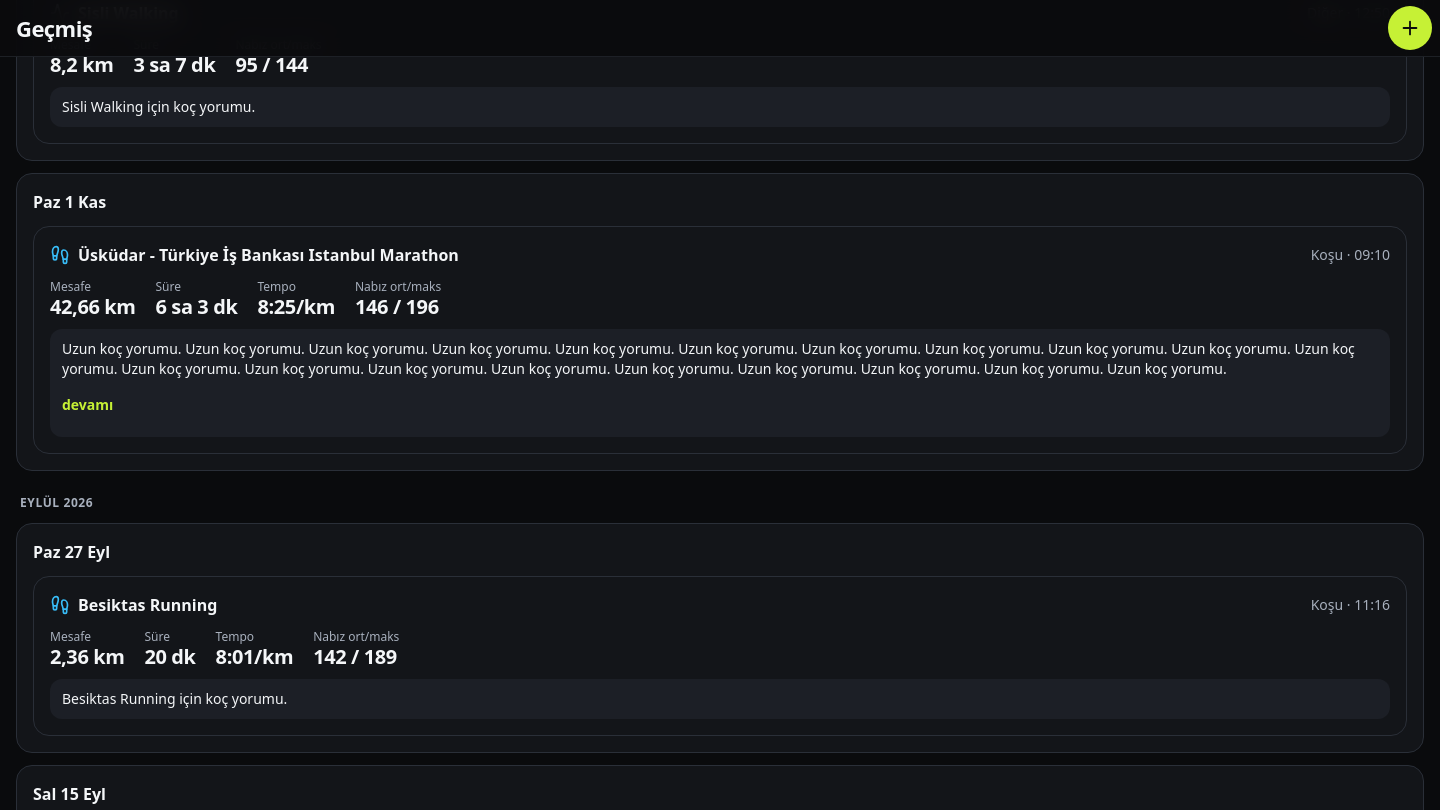
Test: HistoryScreen › clamps a long coach comment behind "devamı" and keeps the stats visible
(page scrolled)
Expected: the text "Istanbul Marathon" shows "42,66 km", [50,293,136,320]
Expected: the text "Istanbul Marathon" shows "6 sa 3 dk", [156,293,238,320]
Click the button "devamı": (88, 405) [54,383,121,427]
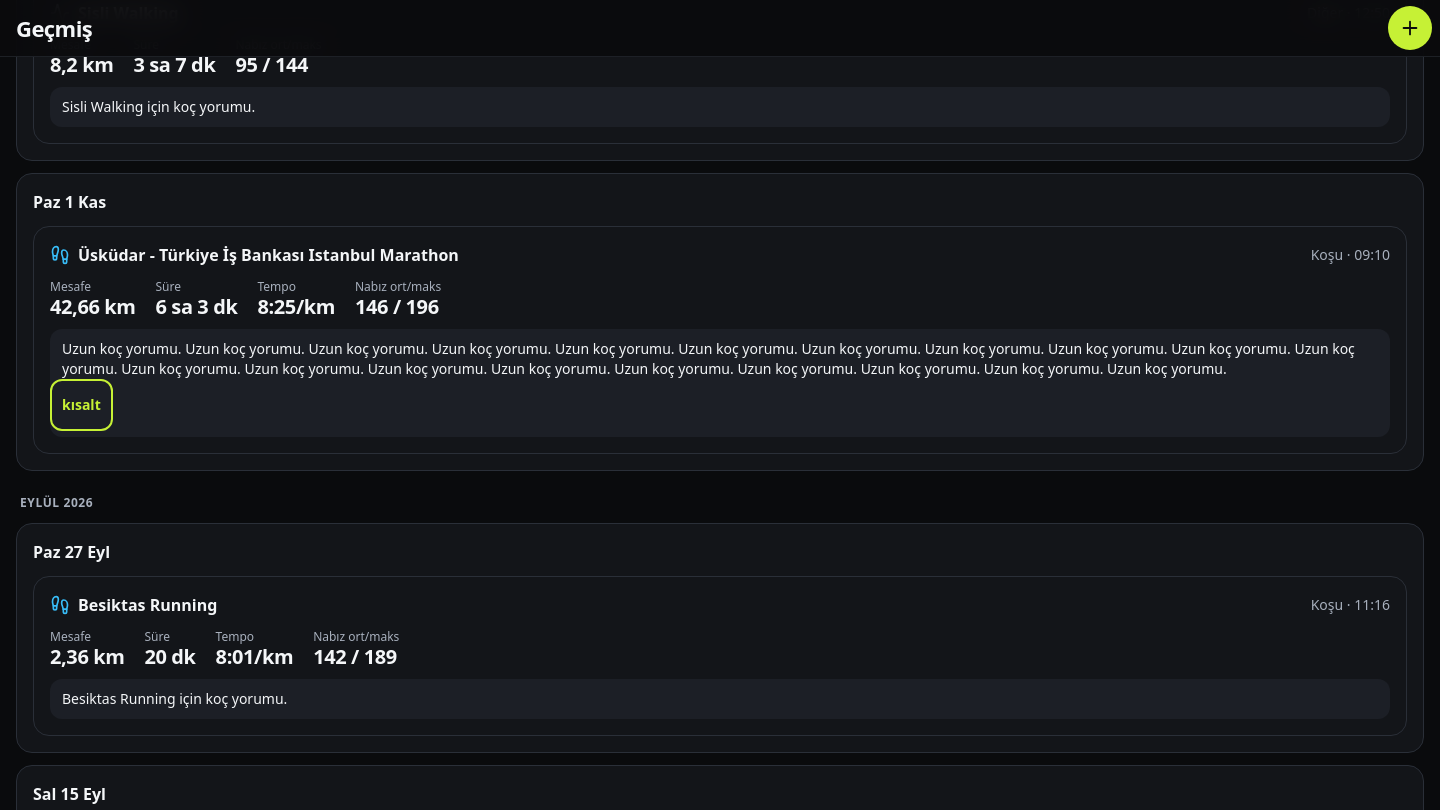
Expected: the button "kısalt" is expanded, [54,383,109,427]
Expected: the button "devamı" is gone
